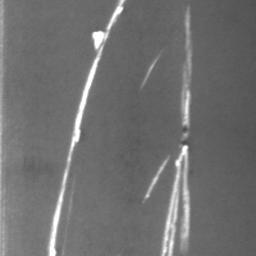Bright scratch: (47, 0, 125, 256), (160, 8, 193, 256), (145, 157, 170, 201), (141, 54, 161, 88)
